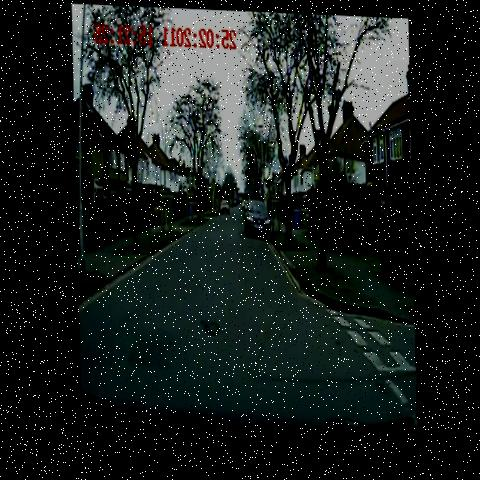pothole: (197, 314, 221, 340)
